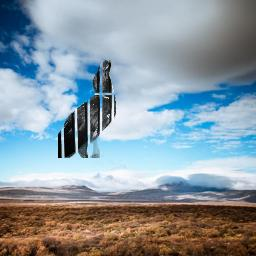Crow: (58, 60, 116, 158)
